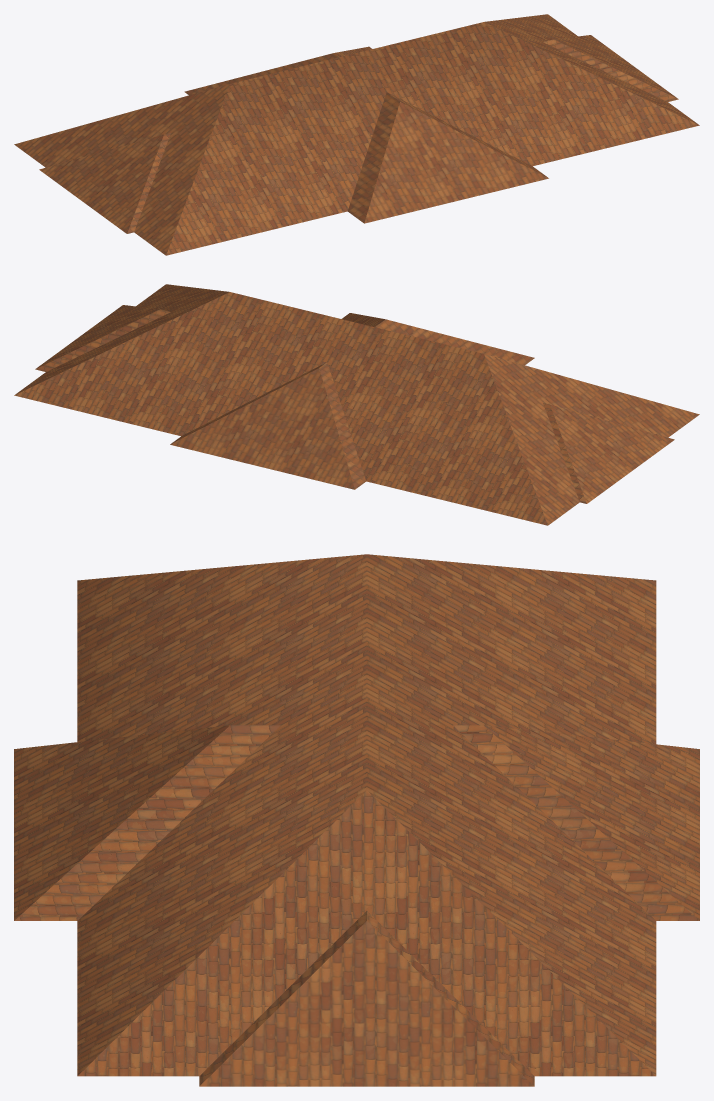
The model's file is Rooftop-Type-2.FBX.
The picture shows the model from 3 angles, top to bottom: view 1: azimuth 30°, elevation 25°; view 2: azimuth 150°, elevation 25°; view 3: azimuth 270°, elevation 25°; orthographic projection. The views are drawn at different scales.
Visible parts, largest first — view 1: Plane571; view 2: Plane571; view 3: Plane571.
Boxes of the visible parts, x1,y1,x2,y2 form: Plane571: (14,14,699,255); Plane571: (14,284,699,525); Plane571: (14,554,699,1086).
Bounding box in the file's own units: 31.3 × 4.45 × 17.69.
